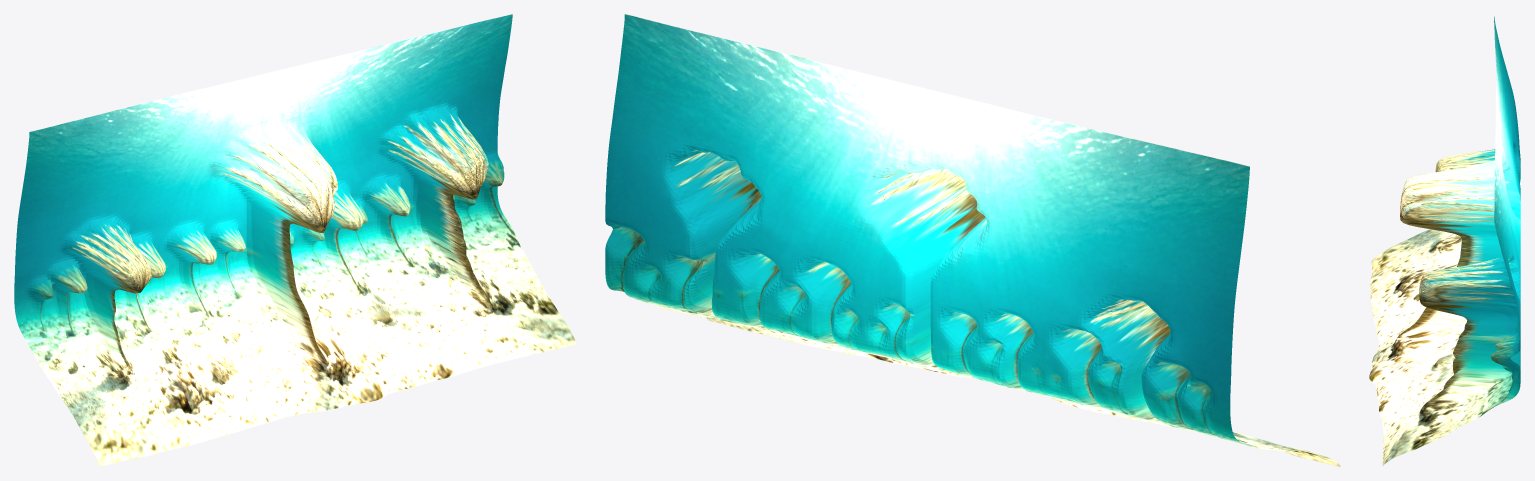
Rendered from mar.glb.
The picture shows the model from 3 angles, left to right: view 1: azimuth 30°, elevation 25°; view 2: azimuth 150°, elevation 25°; view 3: azimuth 270°, elevation 25°; orthographic projection. The views are drawn at different scales.
Parts seen in each view (by area): view 1: geometry_0; view 2: geometry_0; view 3: geometry_0.
Boxes of the visible parts, left/top/right/bottom form: geometry_0: left=14, top=14, right=576, bottom=466; geometry_0: left=605, top=14, right=1340, bottom=466; geometry_0: left=1369, top=16, right=1520, bottom=466.
Bounding box in the file's own units: 40 × 22.44 × 12.46.
1 material, 1 textured.
